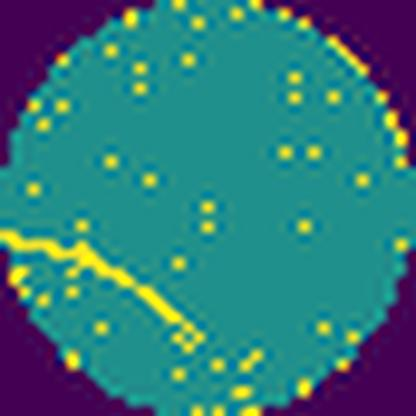Scratch: (0, 223, 205, 356)
